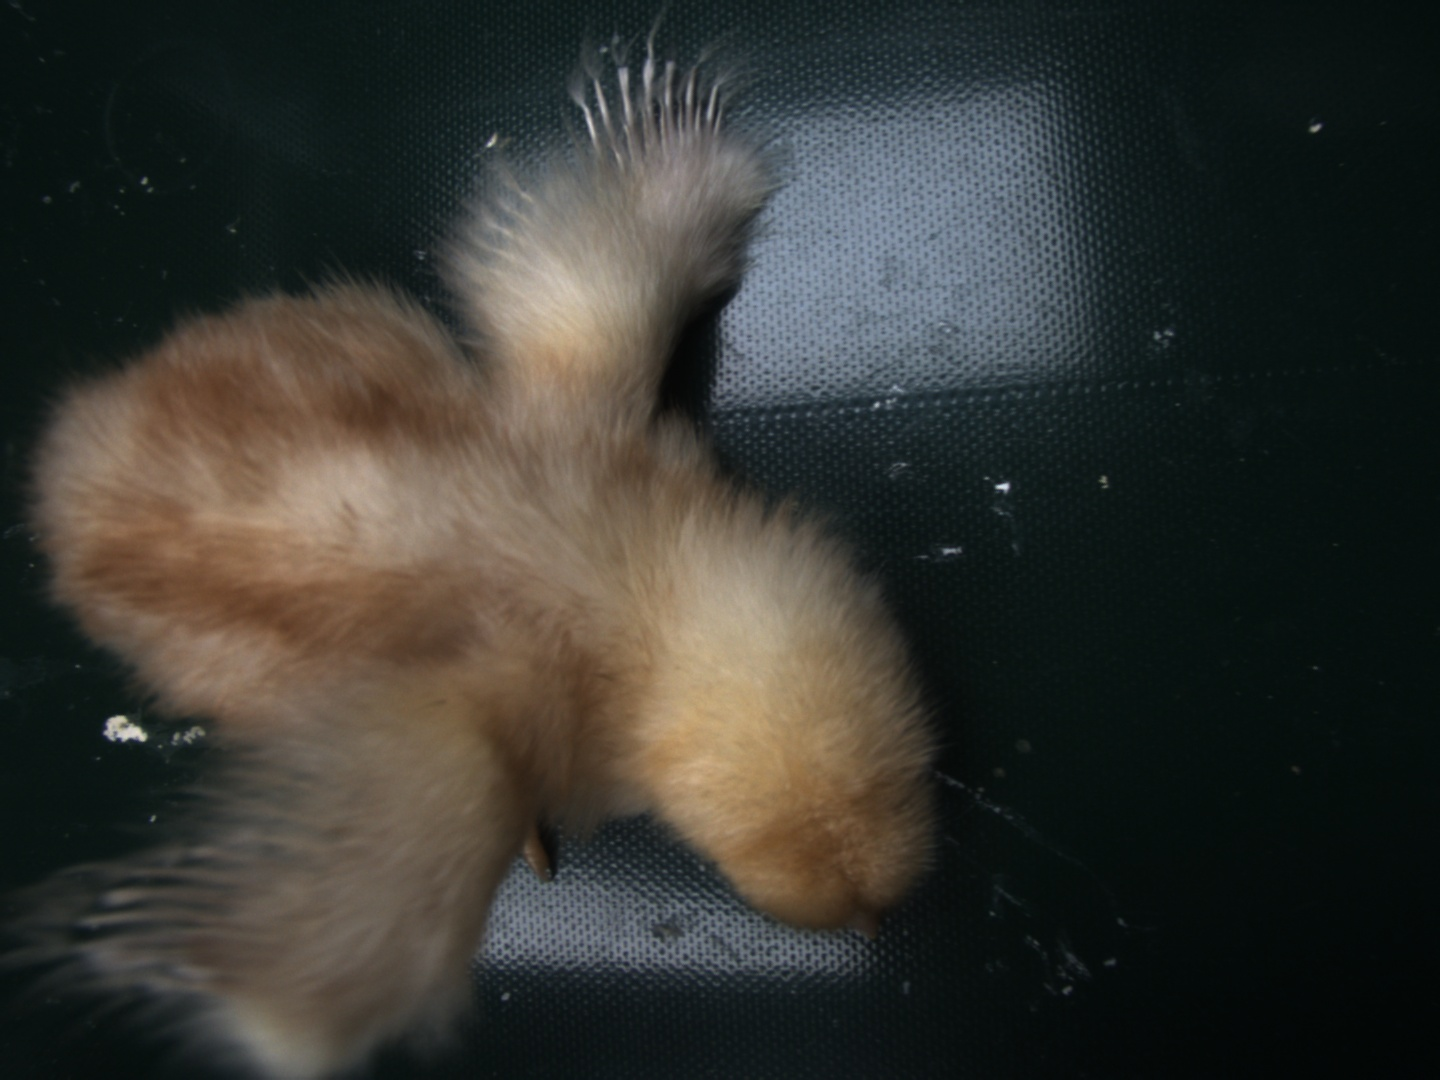female: (567, 54, 729, 172)
